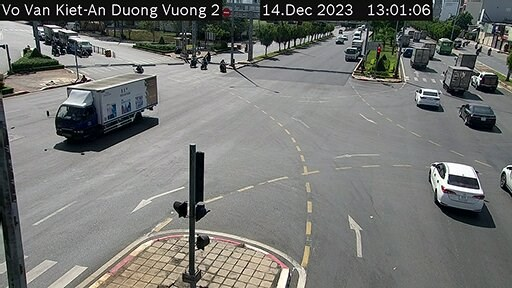car: (427, 156, 477, 220), (462, 102, 500, 129), (416, 84, 438, 118)
truck: (49, 66, 181, 140), (440, 68, 472, 92), (456, 52, 478, 71), (342, 43, 360, 65), (412, 46, 430, 66)
